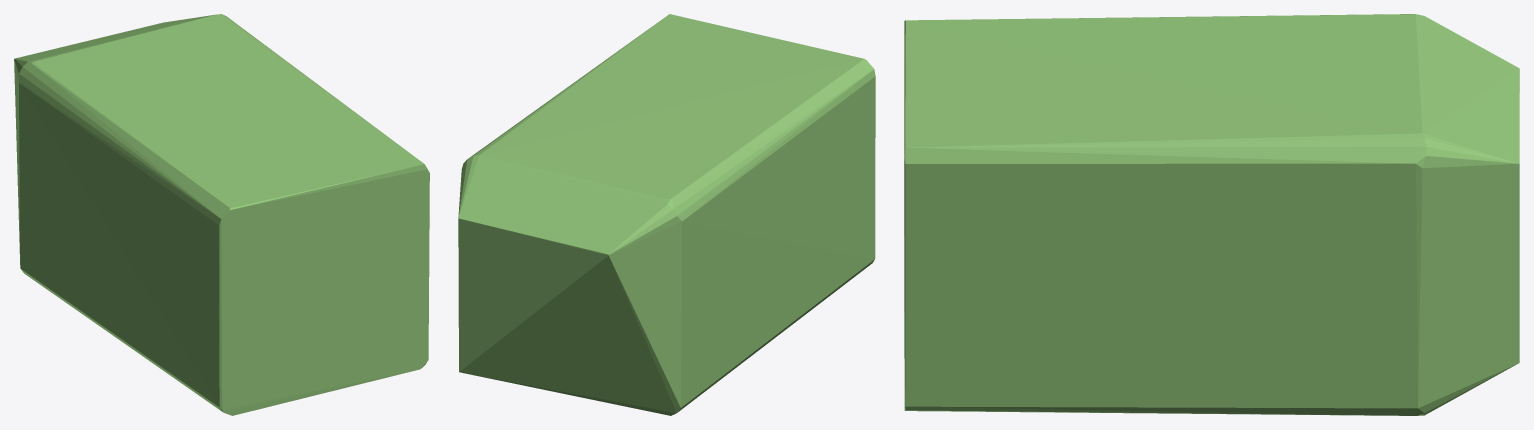
Rendered from furniture_trashBin_lid_a01.glb.
3 views of the same model, side by side, from view 1: azimuth 30°, elevation 25°; view 2: azimuth 150°, elevation 25°; view 3: azimuth 270°, elevation 25° (orthographic). The views are drawn at different scales.
Visible parts, largest first — view 1: geometry_0; view 2: geometry_0; view 3: geometry_0.
Part boxes in pixels (<box>): geometry_0: <box>14,14,429,415</box>; geometry_0: <box>458,14,875,415</box>; geometry_0: <box>904,14,1519,415</box>.
Size of the model in its own units: 0.2561 by 0.2418 by 0.48.
